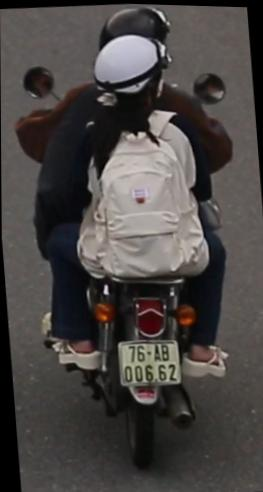LP: (114, 333, 184, 390)
helmet: (88, 28, 170, 117)
